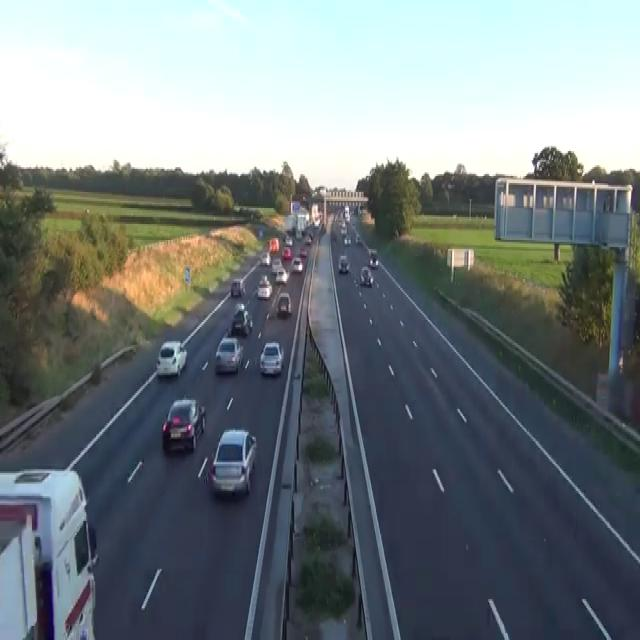Car: (207, 427, 257, 498), (161, 396, 206, 452), (156, 339, 187, 377), (214, 336, 243, 373), (259, 340, 284, 375), (231, 304, 252, 336), (257, 274, 272, 298), (277, 292, 291, 314), (230, 277, 244, 297), (359, 267, 373, 286), (338, 254, 349, 274), (290, 256, 303, 272), (275, 266, 288, 282), (368, 249, 378, 268), (268, 236, 279, 252), (233, 300, 245, 313), (260, 251, 271, 265), (271, 258, 282, 272), (281, 246, 291, 260), (340, 222, 347, 235), (284, 235, 293, 245), (299, 247, 307, 258), (343, 235, 351, 245), (350, 215, 356, 228), (304, 235, 311, 245), (313, 217, 320, 227), (295, 228, 302, 238), (355, 231, 360, 244), (331, 229, 336, 240), (258, 230, 263, 238), (308, 230, 313, 238)
Truck: (0, 466, 99, 638)
